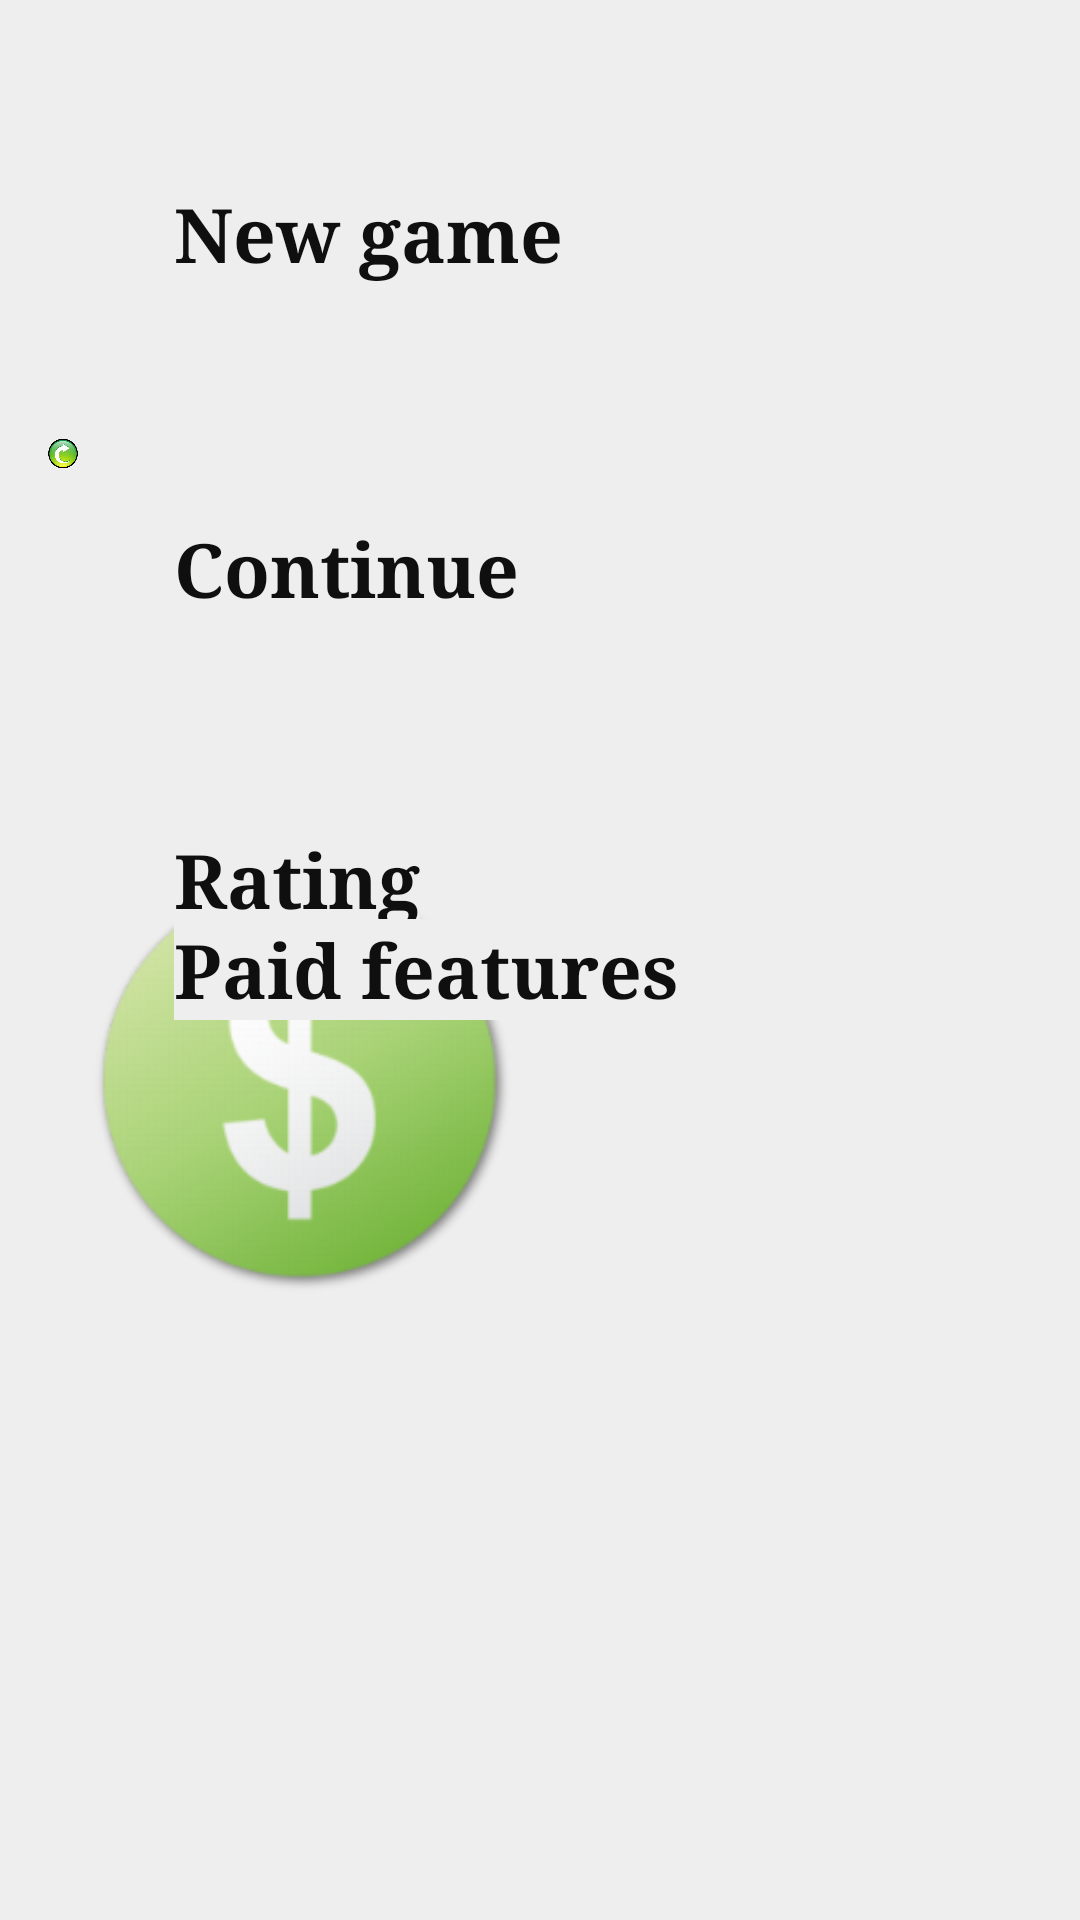

Where to tap for icons on this 1080x1920 app screen, as (x=x, y=y):
load: (x=63, y=453)
